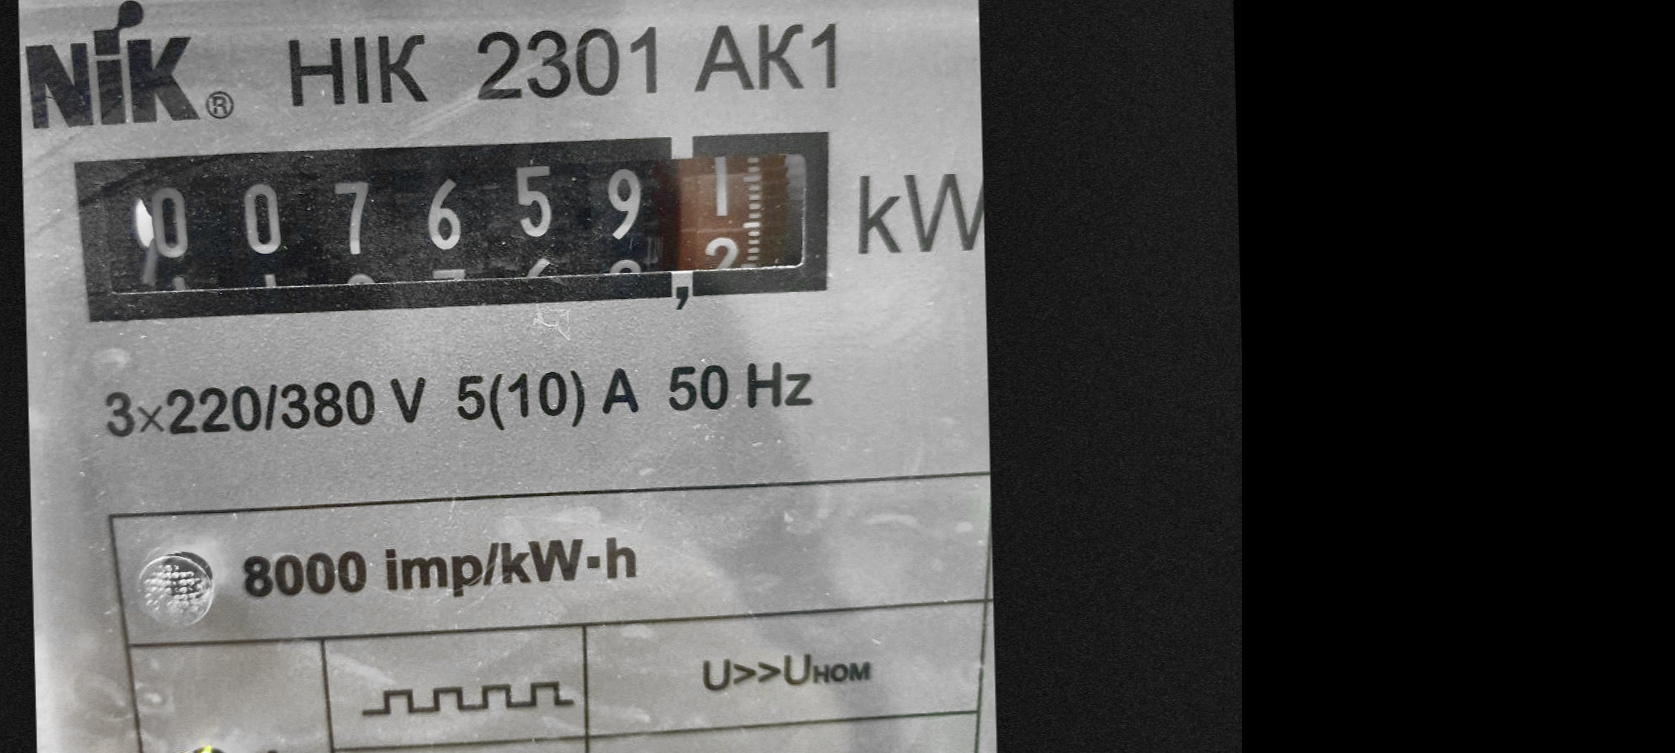0: (230, 176, 288, 263), (142, 179, 194, 270)
1: (703, 151, 739, 226)
5: (507, 161, 555, 244)
6: (414, 172, 468, 256)
7: (328, 176, 372, 262)
9: (600, 162, 645, 251)
screen: (53, 112, 852, 345)
